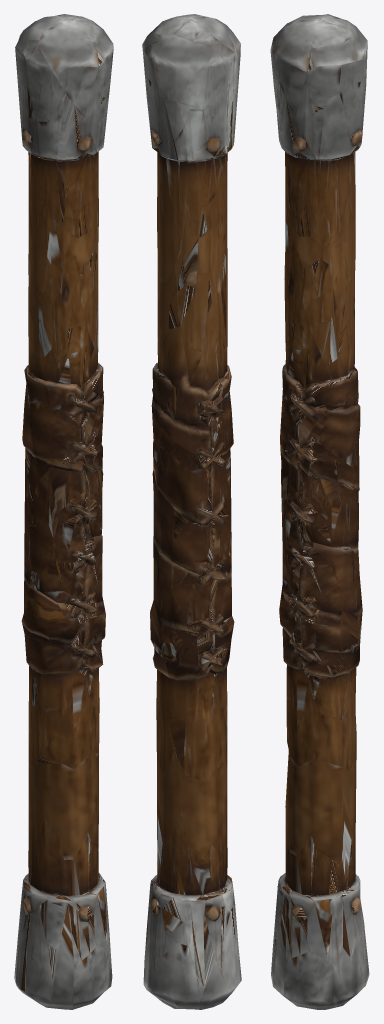
File: quarterstaff.glb
3 renders of one model, left to right at view 1: azimuth 30°, elevation 25°; view 2: azimuth 210°, elevation 25°; view 3: azimuth 330°, elevation 25°, orthographic.
Visible parts, largest first — view 1: Mesh_0; view 2: Mesh_0; view 3: Mesh_0.
Boxes of the visible parts, box(x1,y1,x2,y2) form: Mesh_0: box(14, 14, 113, 1009); Mesh_0: box(142, 14, 241, 1009); Mesh_0: box(270, 14, 369, 1009).
Size of the model in its own units: 0.1641 by 1.8 by 0.1635.
1 material, 1 textured.
